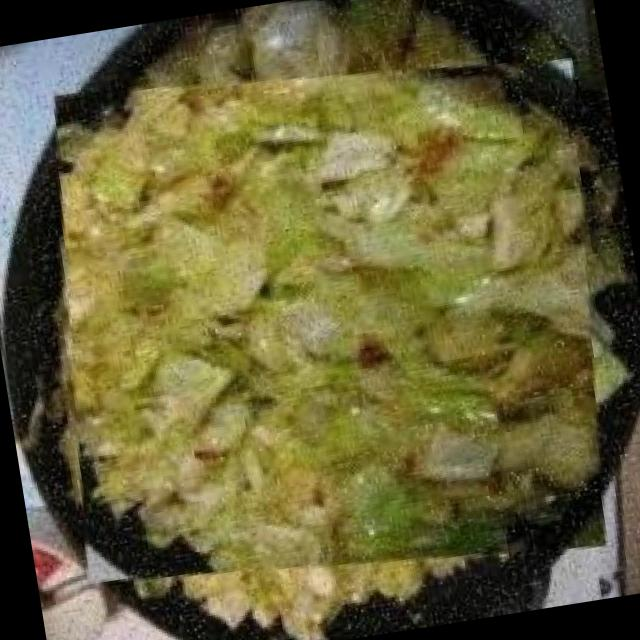chinese_cabbage: (18, 9, 640, 633)
